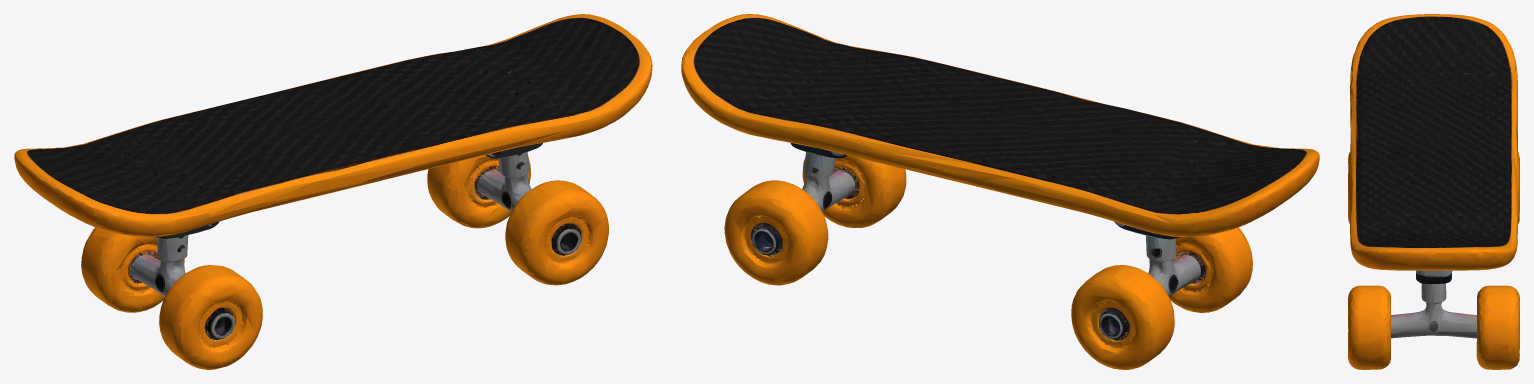
The model's file is veh_skateboard.glb.
3 views of the same model, side by side, from view 1: azimuth 30°, elevation 25°; view 2: azimuth 150°, elevation 25°; view 3: azimuth 270°, elevation 25° (orthographic). The views are drawn at different scales.
Size of the model in its own units: 1.9 by 0.5905 by 0.5765.
1 material, 1 textured.
